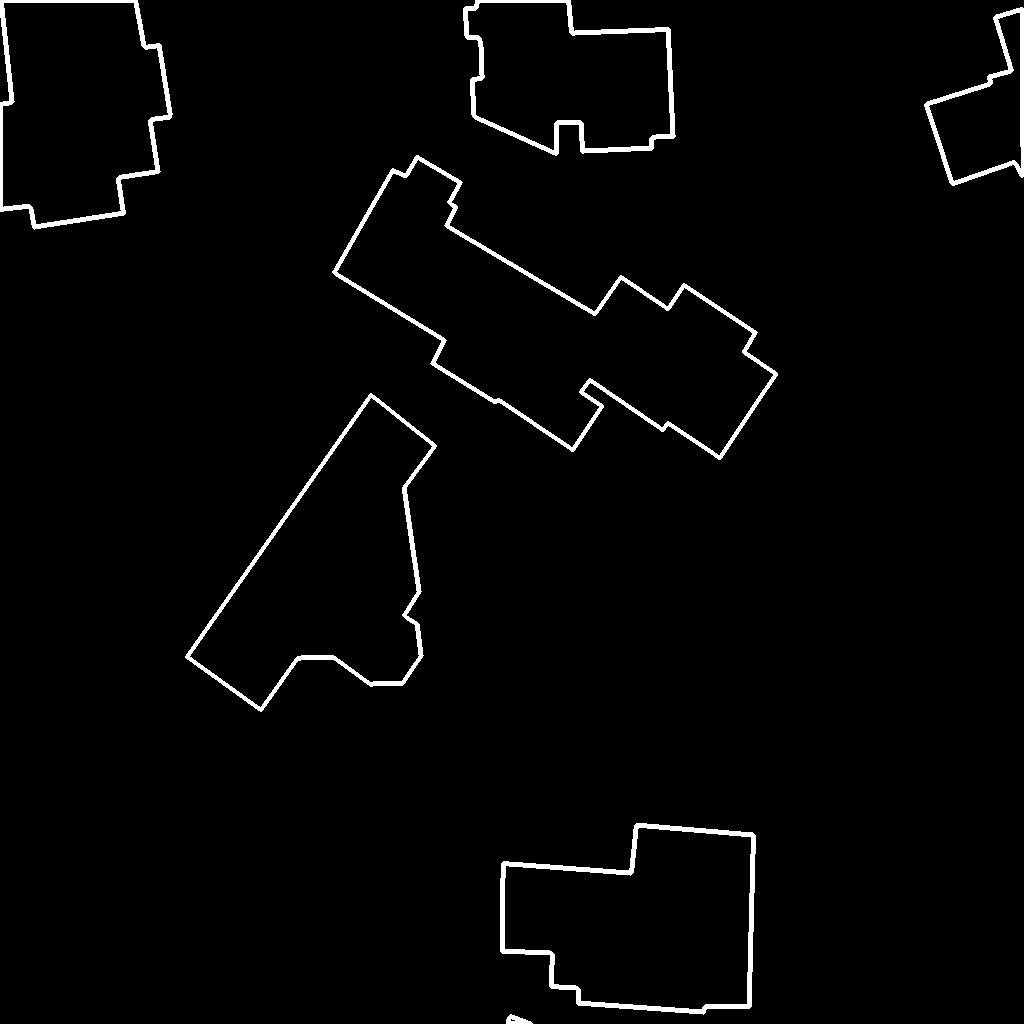building: (334, 157, 777, 459), (187, 395, 436, 711), (502, 825, 755, 1013), (0, 0, 171, 228), (465, 0, 674, 155), (926, 9, 1024, 185), (508, 1016, 532, 1024)
